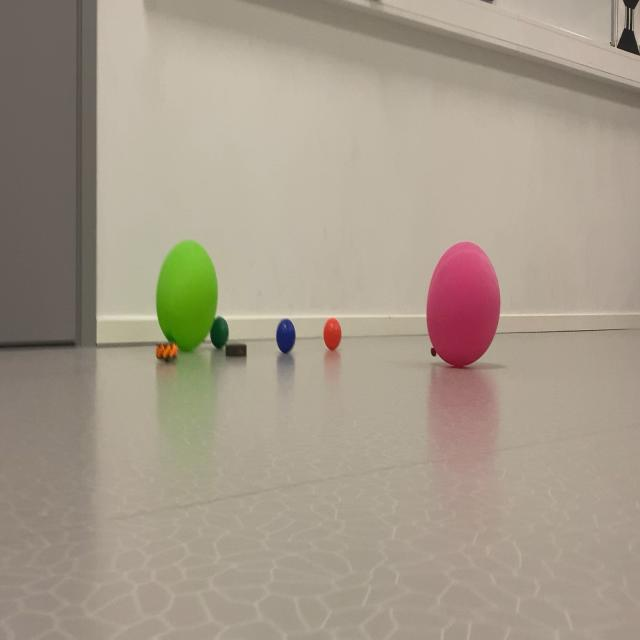7: (308, 282, 359, 386)
green ball: (275, 323, 297, 360)
red ball: (214, 317, 228, 344)
